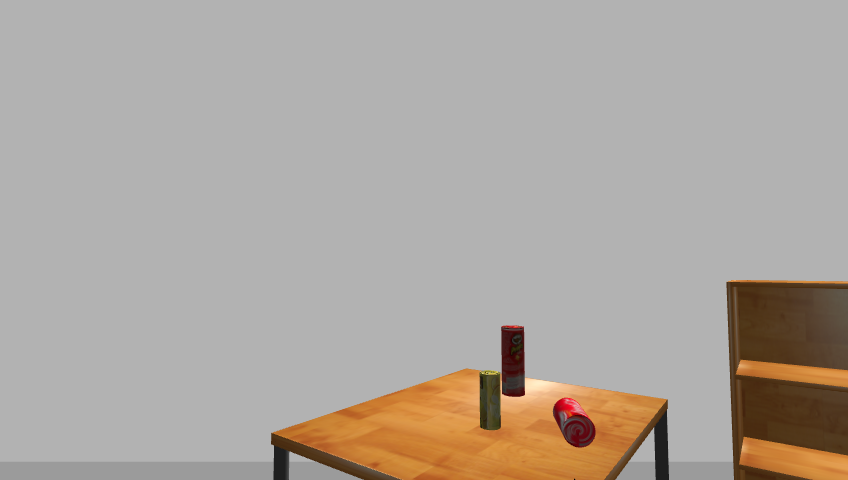biscuits pack: (478, 370, 503, 431)
bookshelf: (720, 278, 848, 479)
coke can: (550, 398, 598, 448)
dinner table: (264, 370, 682, 480)
pringles can: (499, 324, 528, 399)
